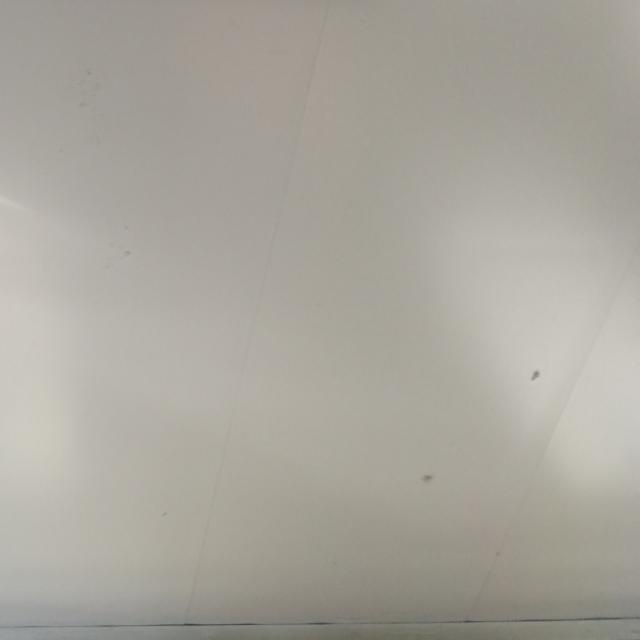fluorescent tube: (0, 0, 423, 14)
